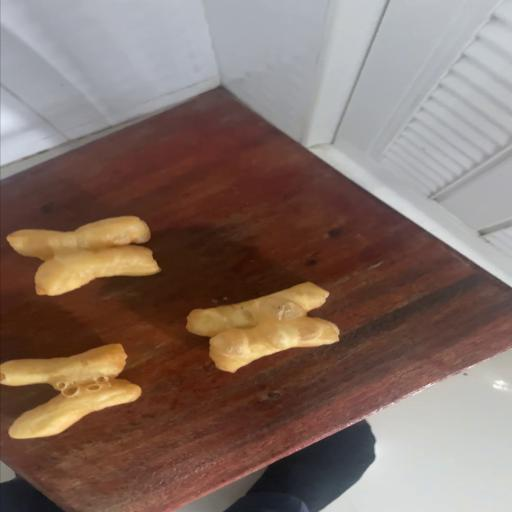street_golden_defect: (183, 283, 339, 371), (0, 345, 138, 439)
street_golden_good: (5, 218, 158, 296)
